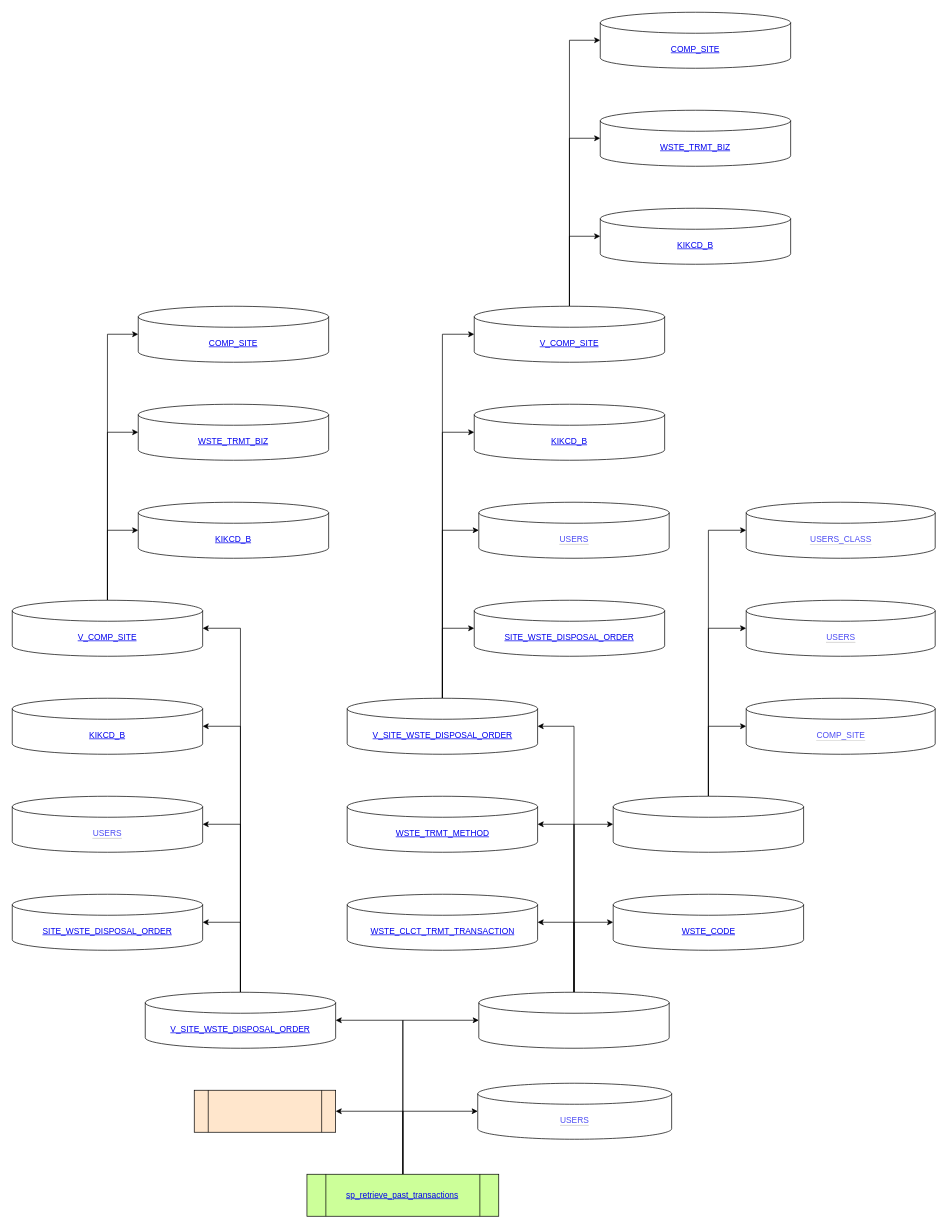
Image size: 948x1229. Some labels were removed from this diagram. The shapes that lost their labels are listed below. From the top down, each one's centre as x and y in pixels, then its label:
At (708,824): "V_USERS".
At (573,1020): "V_WSTE_CLCT_TRMT_TRANSACTION".
At (265,1111): "sp_return_results".
